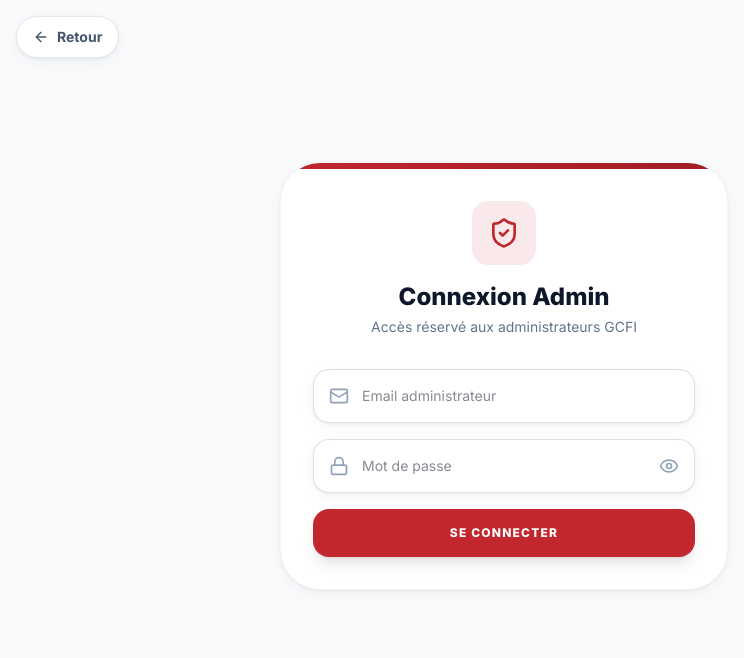
Test case: AdminLoginPage — verrouillage après trop d’échecs › affiche le délai restant et désactive le bouton quand le serveur verrouille
In the field with placeholder "Email administrateur": x=504, y=396 [313,369,695,423], type "admin@gcfi.test"
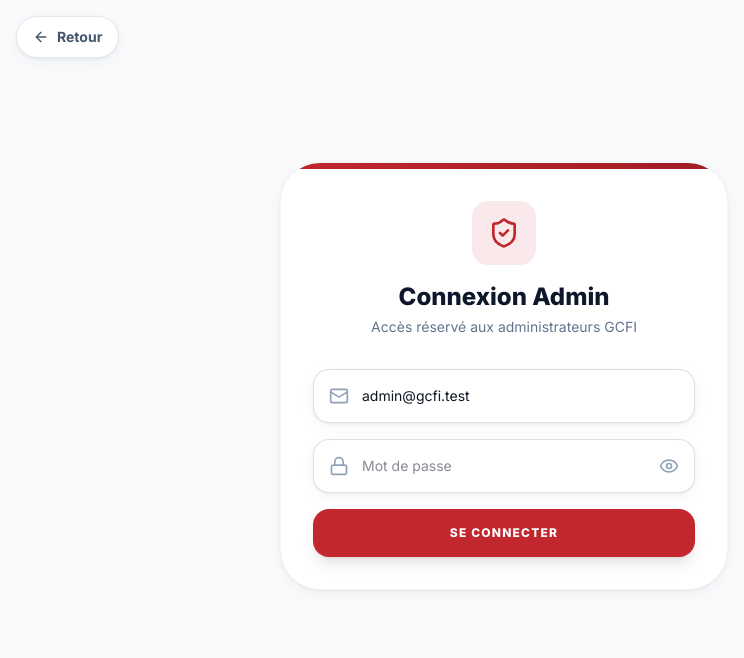
In the password field with placeholder "Mot de passe": x=504, y=466 [313,439,695,493], type "MauvaisMotDePasse1!"
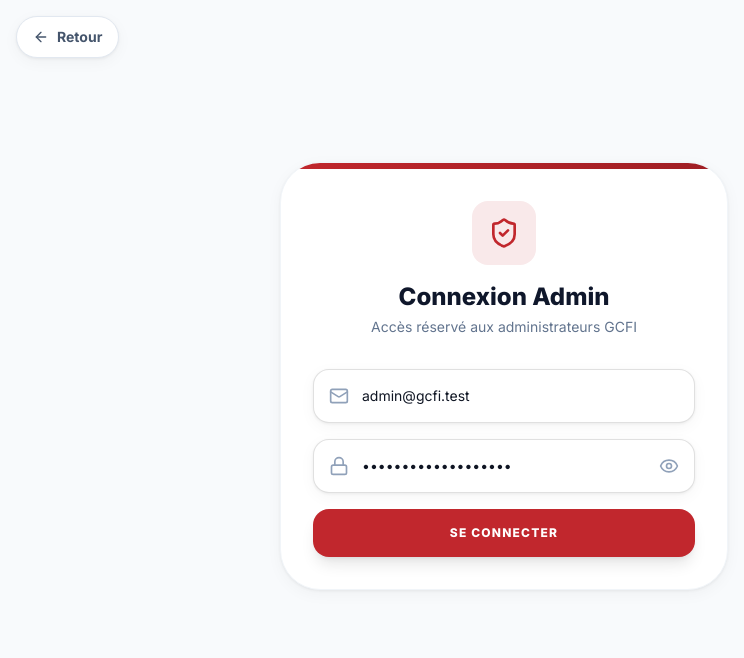
Submit the form, box [313,369,695,557]
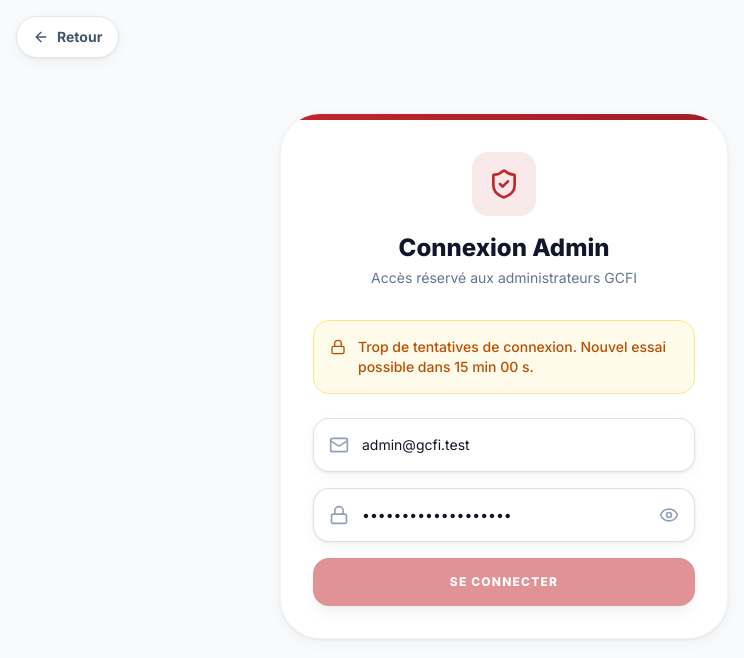
Result: the text "Nouvel essai possible dans 15 min 00 s" is shown at [358,338,666,375]
Result: the submit button is disabled at [313,558,695,606]
